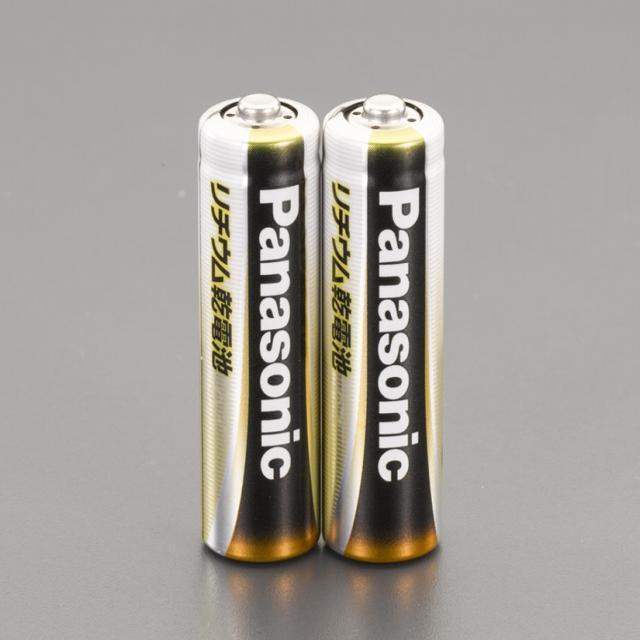Hazard: (192, 92, 324, 566), (320, 93, 449, 567)
